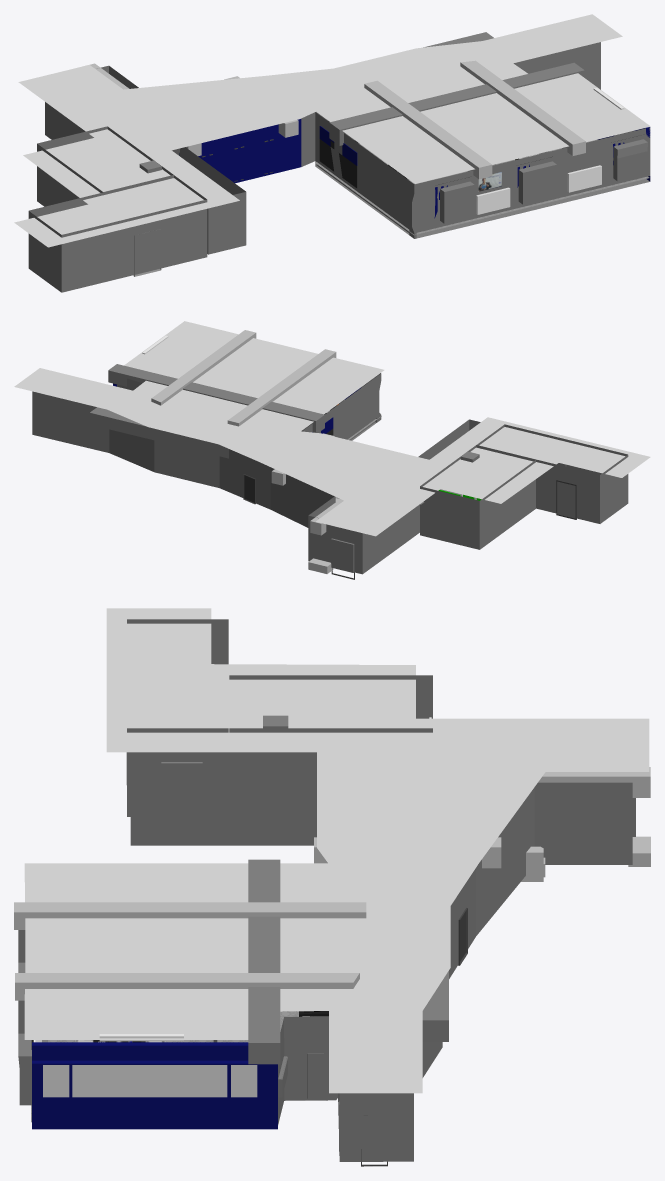
The model's file is Level.FBX.
3 renders of one model, top to bottom at view 1: azimuth 30°, elevation 25°; view 2: azimuth 150°, elevation 25°; view 3: azimuth 270°, elevation 25°, orthographic. The views are drawn at different scales.
Parts seen in each view (by area): view 1: Plane.001, Dummy001, WC, Hallway, HallwaySTUP.001, HallwaySTUP, Grealo001, Grealo, Hangers; view 2: Plane.001, Hallway, WC, HallwaySTUP.001, HallwaySTUP, Dummy001; view 3: Plane.001, Hallway, Dummy001, HallwaySTUP.001, WC, WhiteBoard2, HallwaySTUP, WhiteBoard3, WhiteBoard1.
Boxes of the visible parts, x1,y1,x2,y2 form: Plane.001: [14, 14, 650, 247]; Dummy001: [315, 112, 650, 238]; WC: [28, 126, 207, 292]; Hallway: [45, 42, 600, 254]; HallwaySTUP.001: [329, 60, 585, 179]; HallwaySTUP: [90, 32, 493, 155]; Grealo001: [567, 165, 601, 192]; Grealo: [476, 187, 510, 214]; Hangers: [339, 143, 357, 187]; Plane.001: [14, 321, 650, 536]; Hallway: [32, 391, 480, 579]; WC: [420, 424, 628, 549]; HallwaySTUP.001: [108, 330, 336, 432]; HallwaySTUP: [89, 407, 424, 535]; Dummy001: [113, 373, 381, 498]; Plane.001: [24, 608, 649, 1093]; Hallway: [130, 752, 635, 1166]; Dummy001: [18, 930, 337, 1129]; HallwaySTUP.001: [14, 859, 366, 1064]; WC: [126, 619, 432, 816]; WhiteBoard2: [72, 1065, 227, 1097]; HallwaySTUP: [314, 767, 650, 1041]; WhiteBoard3: [43, 1065, 69, 1097]; WhiteBoard1: [231, 1065, 257, 1097].
Bounding box in the file's own units: 5787 × 568 × 3214.
